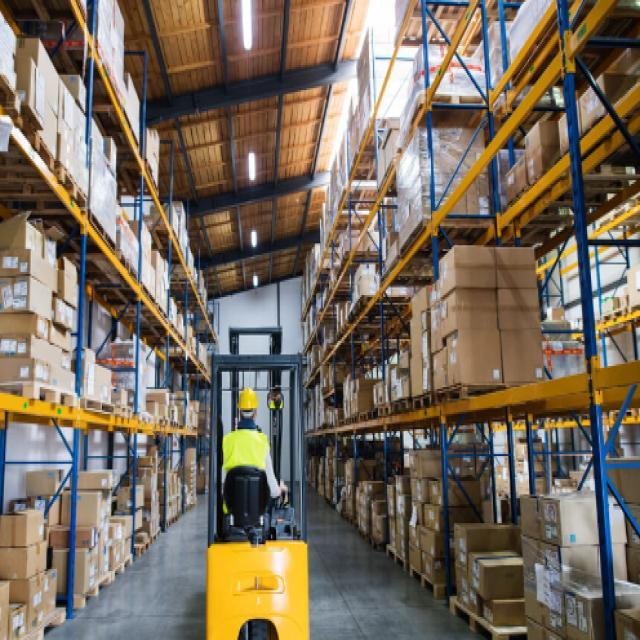helmet: (235, 383, 259, 423)
vest: (222, 424, 272, 513)
